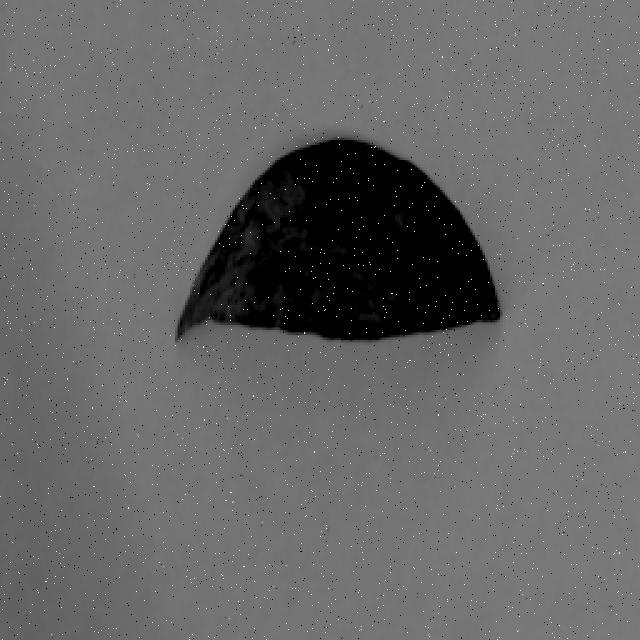blackspot: (162, 114, 508, 403)
